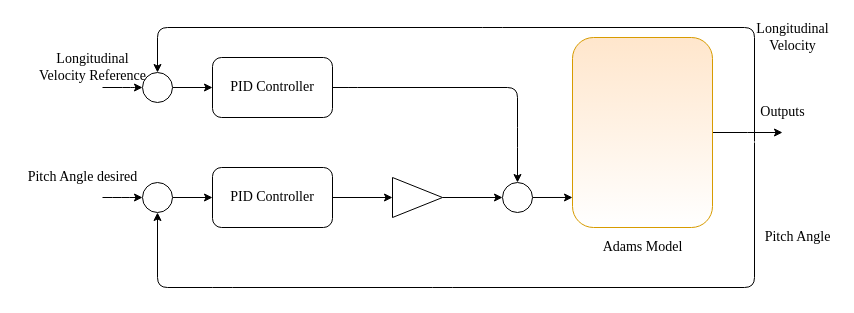
The diagram is 854 pixels wide and 313 high, and some of its shapes have lost their labels. The shapes that lost their labels are listed below. From the top down, each one's centre as x and y in pixels, then its label:
point 642,132: TWSBV
point 417,197: $\alpha$
